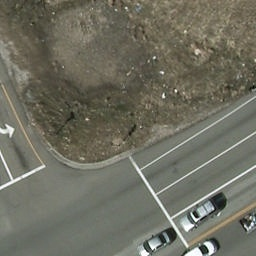car: (177, 199, 220, 234)
